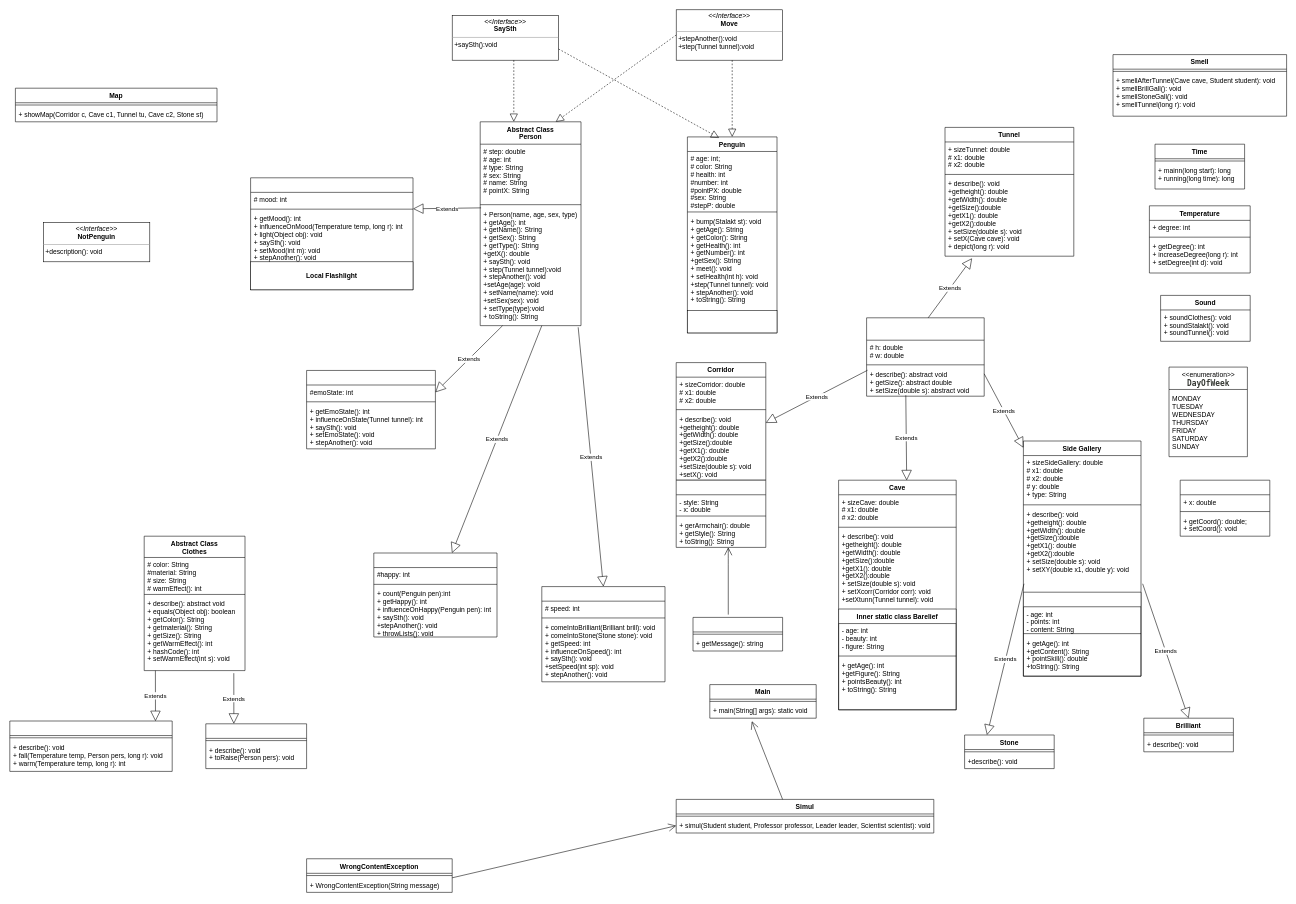
Image size: 1296x904. Some labels were removed from this diagram. Here are the shapes that lost their labels. From the top down, the box of each, then its label:
(250, 177, 413, 290): Leader
(687, 310, 777, 333): Local Wings
(866, 317, 984, 396): Abstract Class Location
(306, 370, 435, 449): Professor
(676, 480, 766, 547): Inner class Armchair
(1180, 480, 1270, 536): Stalakt
(373, 552, 497, 637): Scientist
(541, 586, 665, 682): Student
(692, 617, 783, 651): ArmchairException
(1023, 592, 1141, 676): Inner class Rezba
(9, 720, 172, 771): Coat
(205, 723, 307, 769): CutCoat
